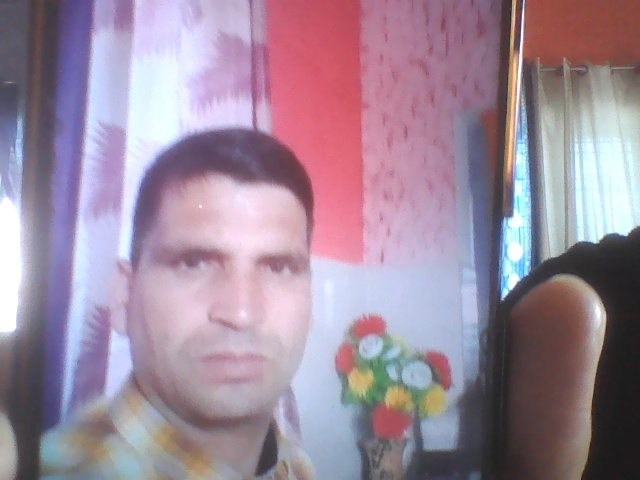fake: (100, 93, 344, 439)
